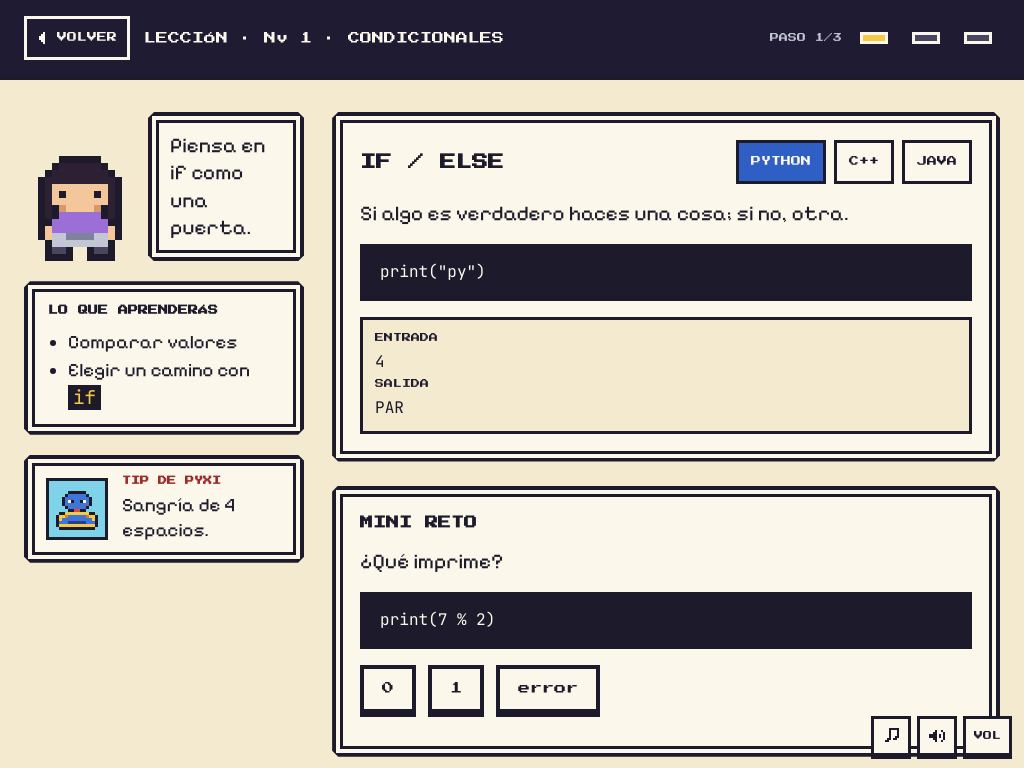
LessonScreen › el quiz permite fallar y reintentar
Expected: the tab "PYTHON" is shown, [736,140,826,184]
What coordinates should you click on to do the following:
click the button "0"
I would click on:
 (388, 689)
Its box is [360,665,416,713].
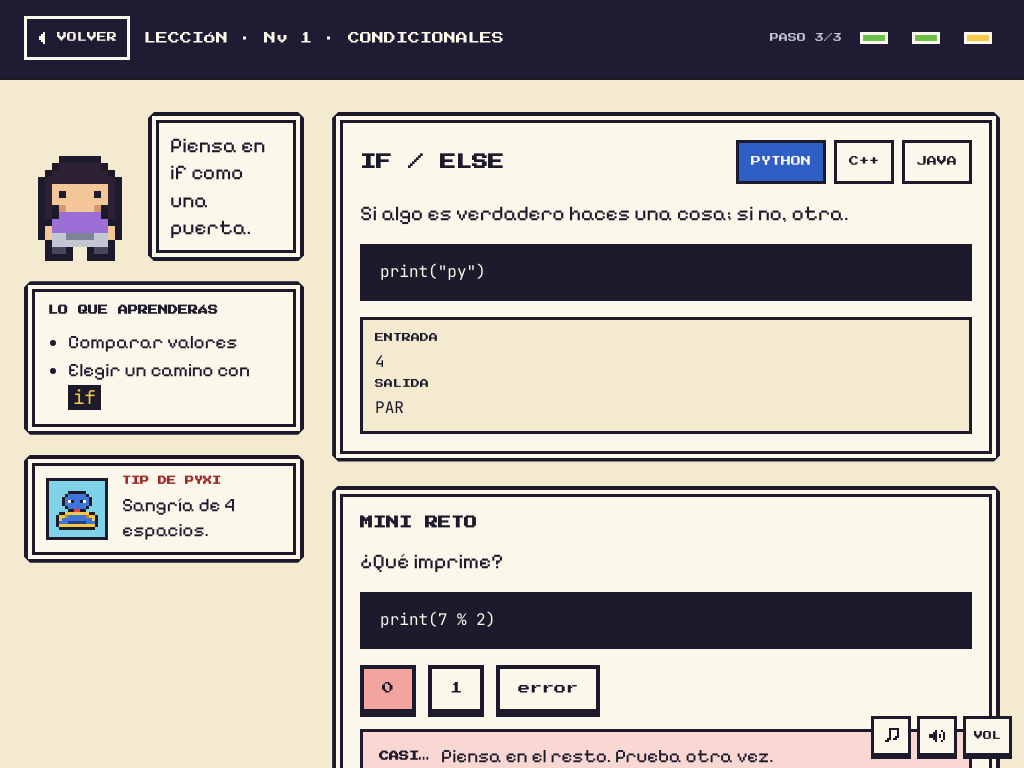
Result: the text "CASI…" is shown at [379,749,429,763]
What coordinates should you click on to do the following:
click the button "1"
I would click on:
 (456, 689)
Its box is [428,665,484,713].
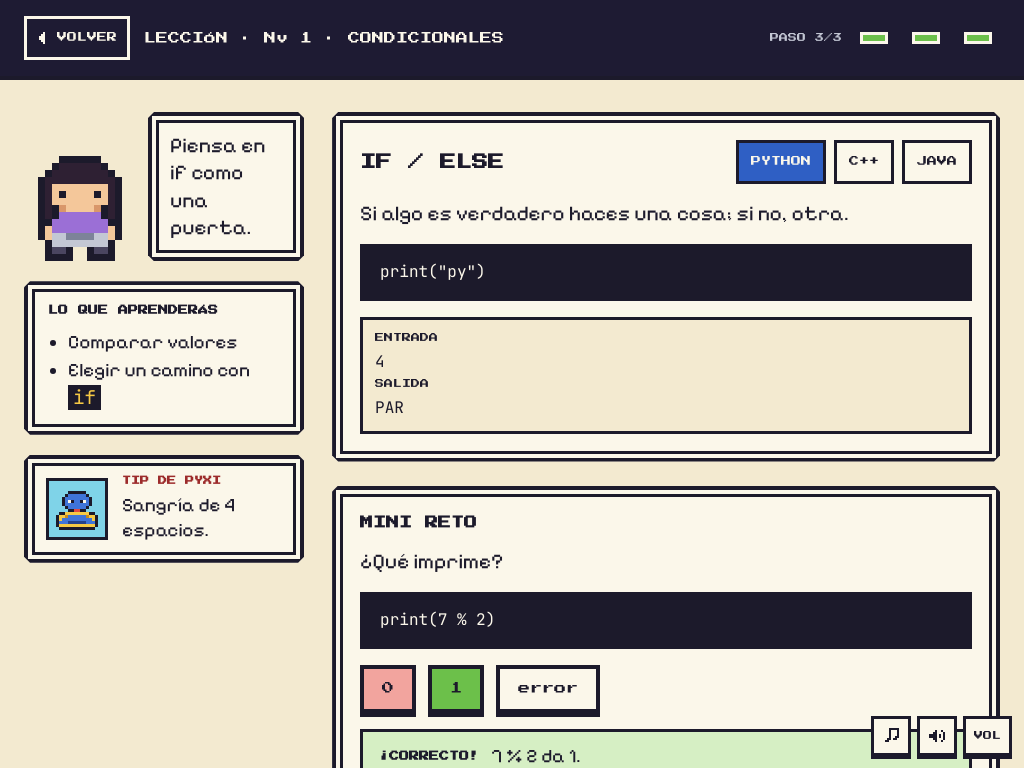
Result: the text "¡CORRECTO!" is shown at [379,749,479,763]
